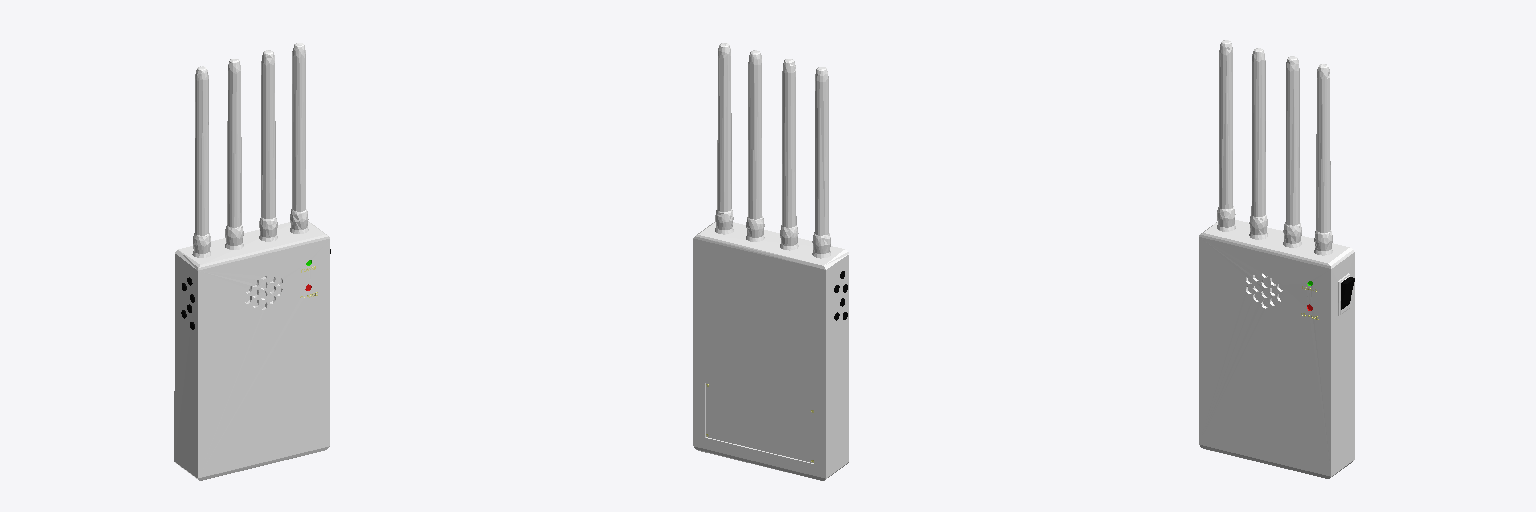
The picture shows the model from 3 angles: view 1: azimuth 30°, elevation 25°; view 2: azimuth 150°, elevation 25°; view 3: azimuth 330°, elevation 25°; orthographic projection.
Parts seen in each view (by area): view 1: SignalJammer; view 2: SignalJammer; view 3: SignalJammer.
Boxes of the visible parts, x1,y1,x2,y2 form: SignalJammer: [174, 43, 330, 480]; SignalJammer: [693, 43, 848, 480]; SignalJammer: [1199, 40, 1354, 478].
Bounding box in the file's own units: 1.21 × 3.29 × 0.3465.
Materials: 5 (1 with a texture image).